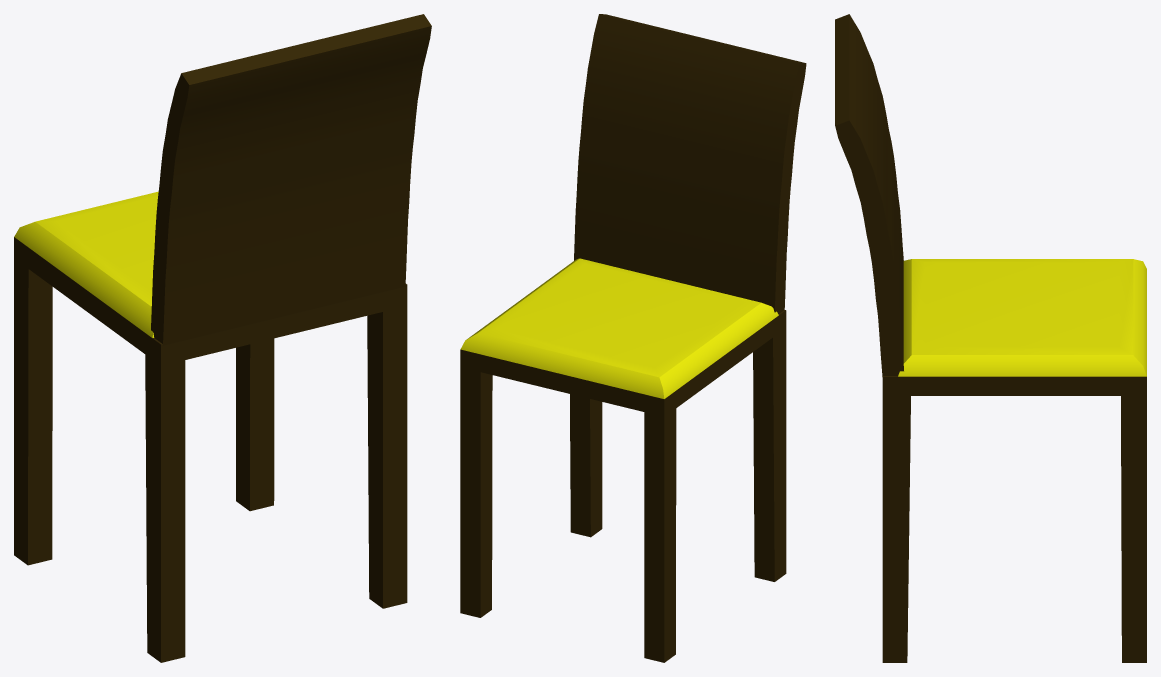
The model's file is 11_CHAIR5.fbx.
3 renders of one model, left to right at view 1: azimuth 30°, elevation 25°; view 2: azimuth 150°, elevation 25°; view 3: azimuth 270°, elevation 25°, orthographic. The views are drawn at different scales.
Parts seen in each view (by area): view 1: legs4, foam; view 2: legs4, foam; view 3: legs4, foam.
Boxes of the visible parts, bbox=[...] form: legs4: bbox=[14, 14, 431, 662]; foam: bbox=[14, 191, 158, 337]; legs4: bbox=[460, 14, 806, 662]; foam: bbox=[460, 258, 778, 398]; legs4: bbox=[835, 14, 1146, 662]; foam: bbox=[898, 259, 1146, 376].
Bounding box in the file's own units: 1.41 × 3.3 × 1.72.
